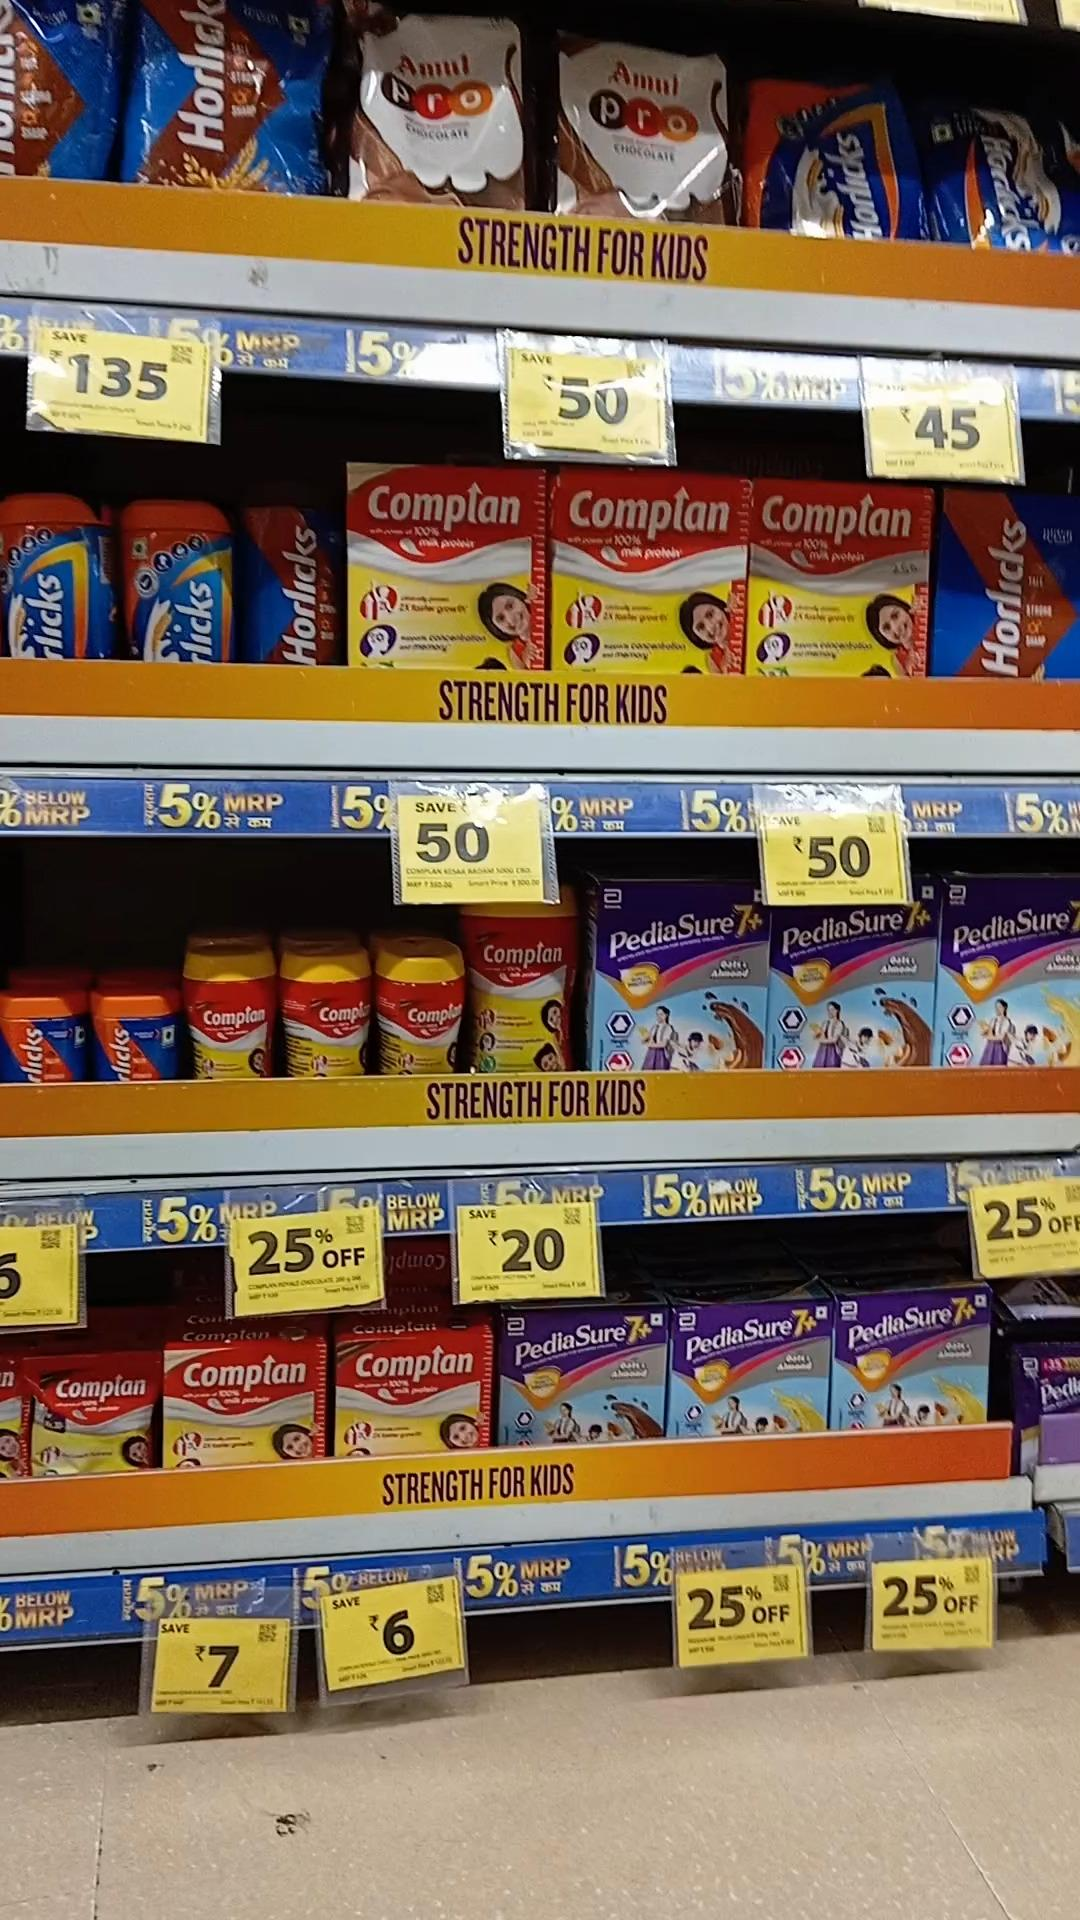COMPLAN_CHOCOLATE_200_GMS_JAR: (191, 947, 272, 1084), (394, 943, 465, 1079), (305, 952, 371, 1079)
COMPLAN_CHOCOLATE_500_GMS_JAR: (468, 899, 575, 1073)
COMPLAN_KESAR_BADAM_500_GMS_PACK: (347, 463, 545, 667)
HORLICK_CHOCOLATE_500_G_JAR: (247, 488, 344, 671)
HORLICK_CLASSIC_MALT_500_G_JAR: (0, 488, 117, 659), (125, 500, 236, 665)
HORLICK_CLASSIC_MALT_500_G_PACK: (741, 66, 913, 240)
PEDIASURE_7_PLUS_CHOCOLATE_400_G_PACK: (597, 878, 762, 1073), (774, 901, 935, 1069)
